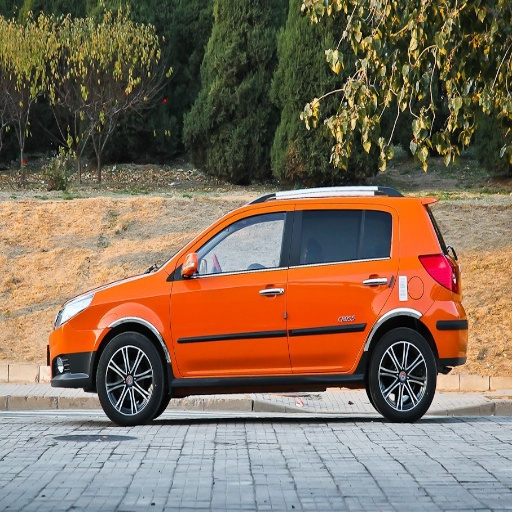back_left_door: (287, 205, 393, 369)
front_left_door: (171, 207, 294, 375)
